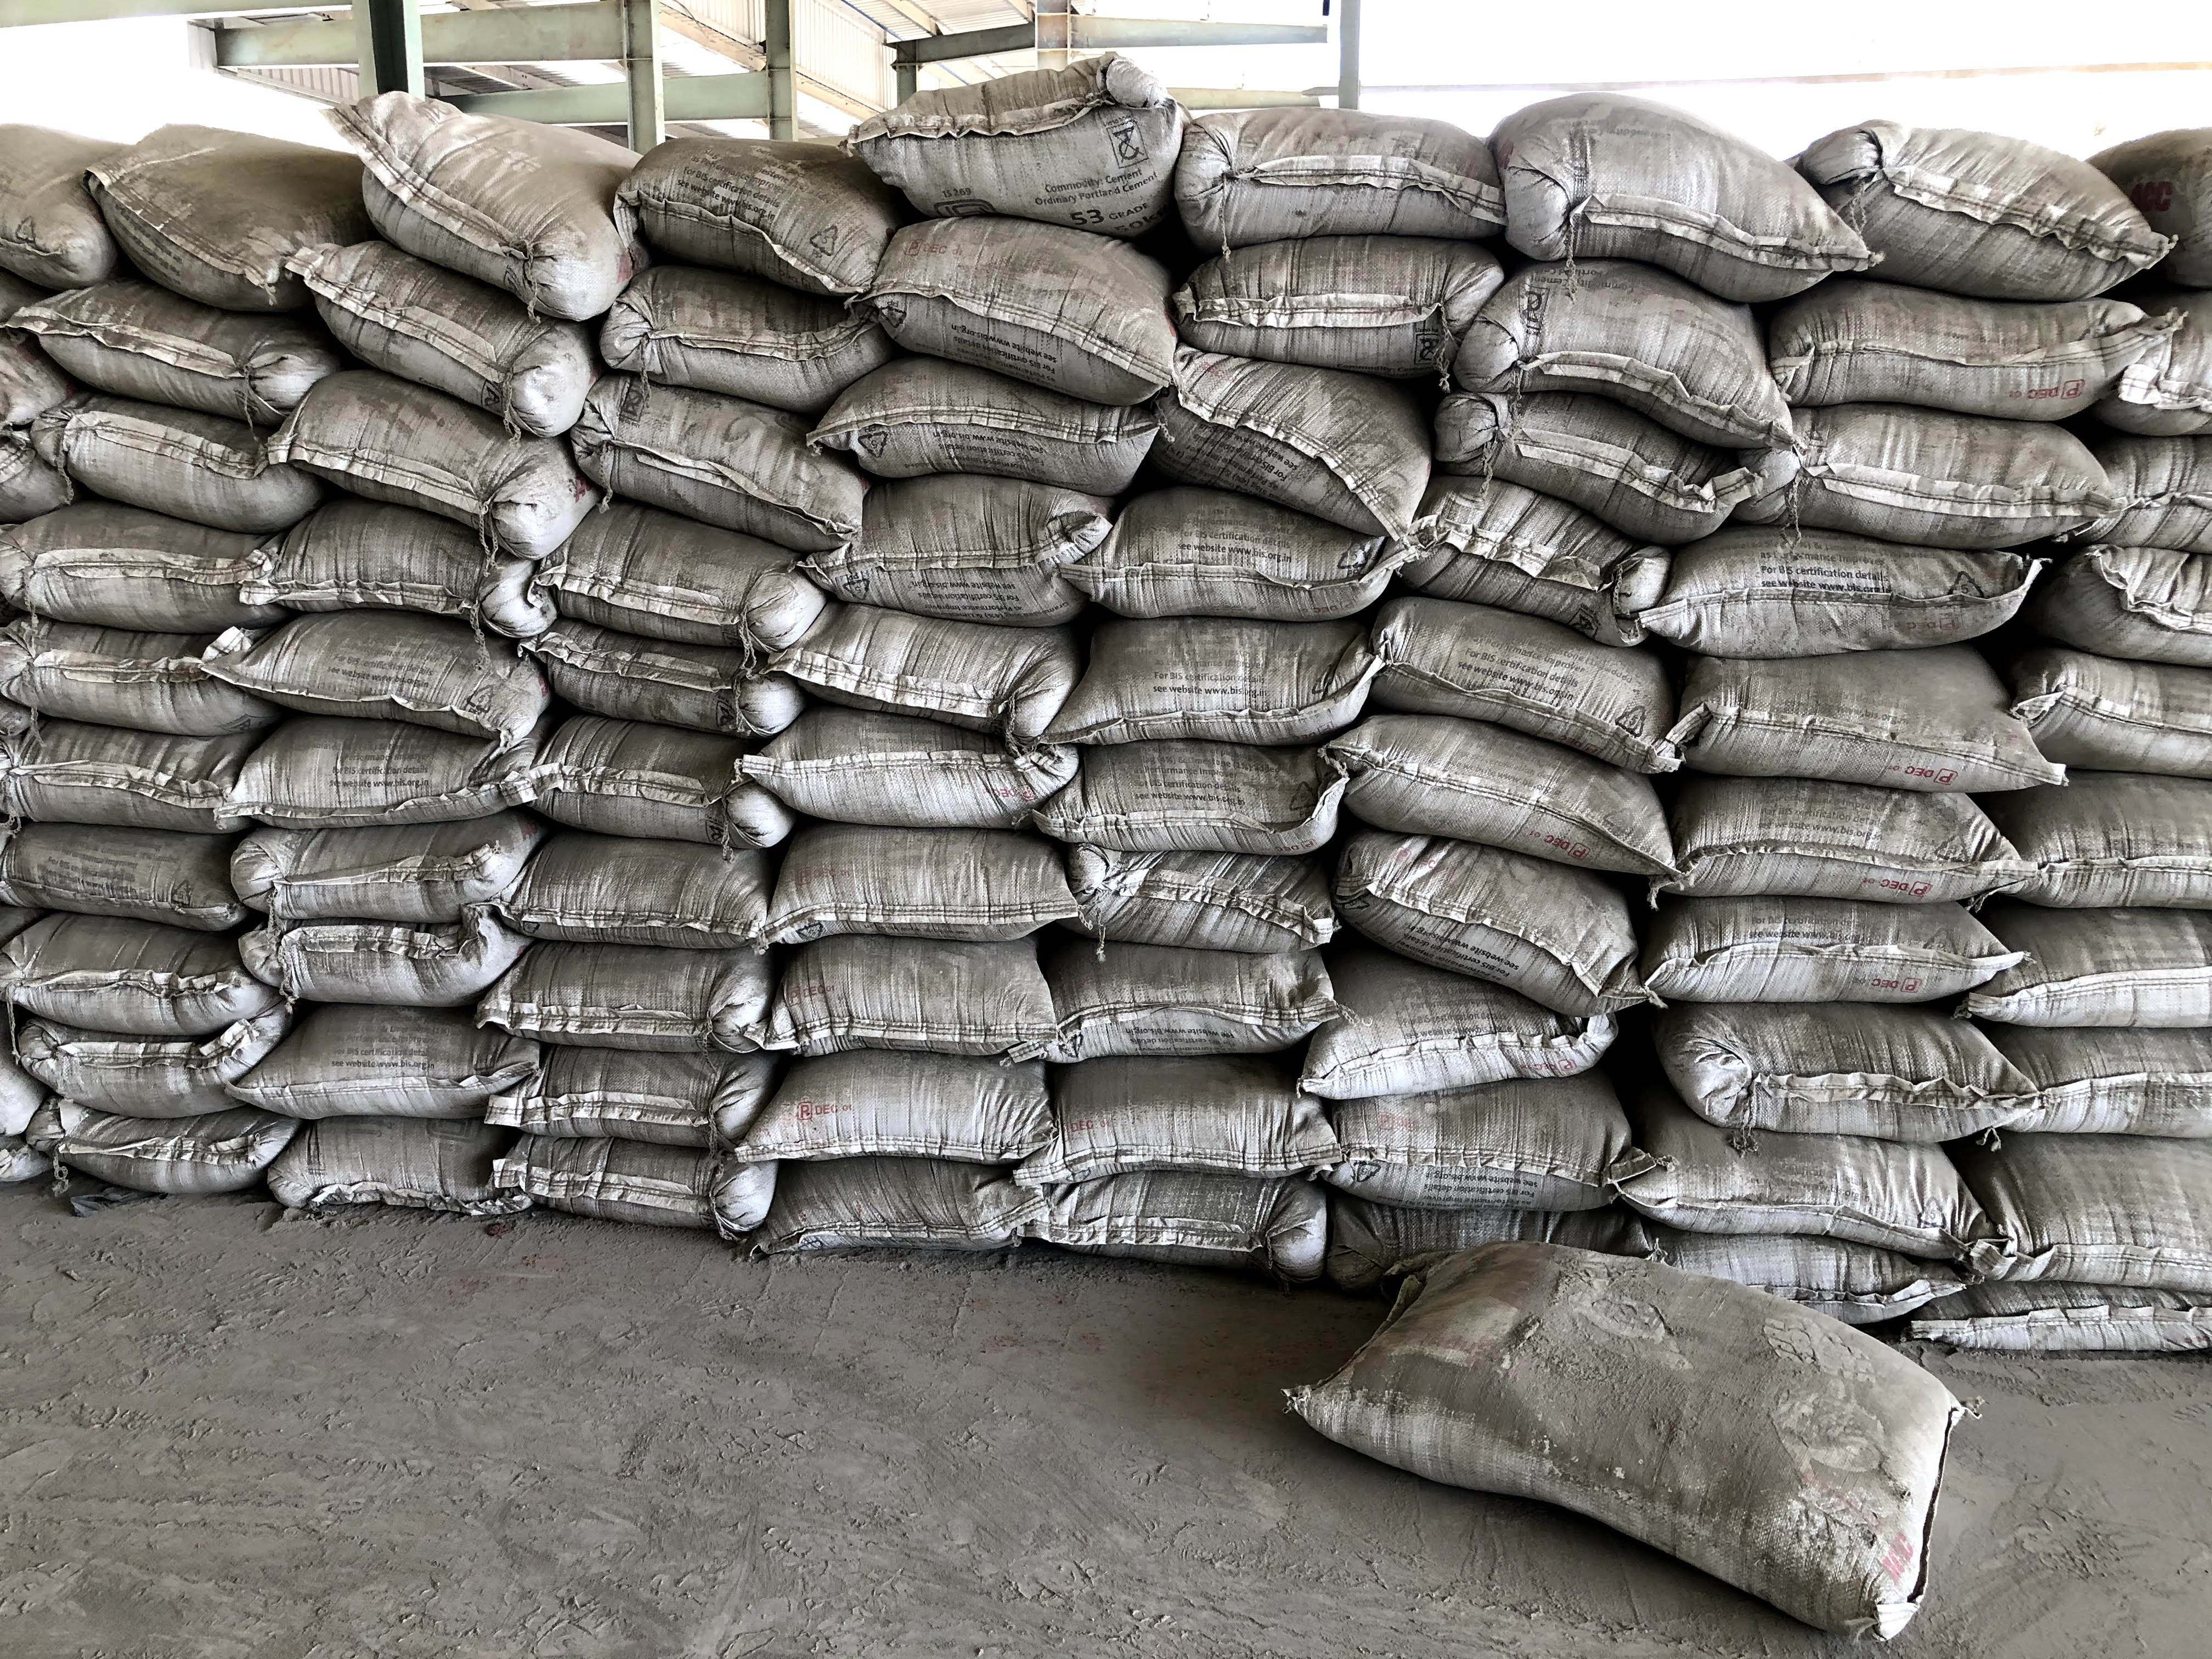cement bag: (1409, 1225, 1907, 1572), (1494, 91, 1860, 296), (1827, 99, 2151, 286), (354, 89, 641, 286), (1355, 704, 1669, 856), (1376, 596, 1686, 748), (1475, 267, 1794, 413), (890, 216, 1163, 383), (1165, 350, 1420, 526), (1663, 1002, 2010, 1129), (1200, 92, 1507, 232), (1681, 652, 2020, 777), (1663, 523, 2036, 636), (324, 235, 580, 394), (1444, 390, 1750, 521), (1787, 293, 2146, 404), (1350, 826, 1609, 976), (272, 608, 552, 746), (1817, 399, 2095, 535), (888, 85, 1174, 216), (610, 387, 846, 544), (1195, 235, 1475, 368), (792, 931, 1066, 1065), (625, 125, 867, 261), (251, 840, 542, 951), (1677, 890, 1989, 993), (786, 826, 1068, 939), (1064, 744, 1381, 842), (1062, 924, 1303, 1049), (761, 1053, 1045, 1157), (303, 382, 524, 514), (1320, 964, 1569, 1080), (627, 261, 848, 392), (63, 275, 294, 399), (106, 132, 305, 272), (1329, 1077, 1620, 1171), (1069, 838, 1339, 938), (765, 716, 1035, 814), (82, 389, 293, 512), (1040, 1060, 1301, 1159), (244, 735, 543, 821), (23, 512, 254, 619), (2006, 1134, 2189, 1269), (2006, 1025, 2212, 1143), (547, 720, 744, 843), (1109, 620, 1339, 723), (538, 1140, 756, 1246), (819, 591, 1021, 704), (2017, 931, 2212, 1047), (286, 504, 496, 612), (2, 624, 249, 714), (878, 484, 1094, 580), (2027, 765, 2212, 877), (286, 1019, 524, 1105), (52, 1103, 265, 1199), (545, 835, 742, 936), (26, 913, 251, 999), (10, 727, 230, 814), (38, 1023, 260, 1108), (529, 941, 751, 1026), (296, 1122, 503, 1204), (540, 1051, 740, 1134), (19, 824, 214, 908)
